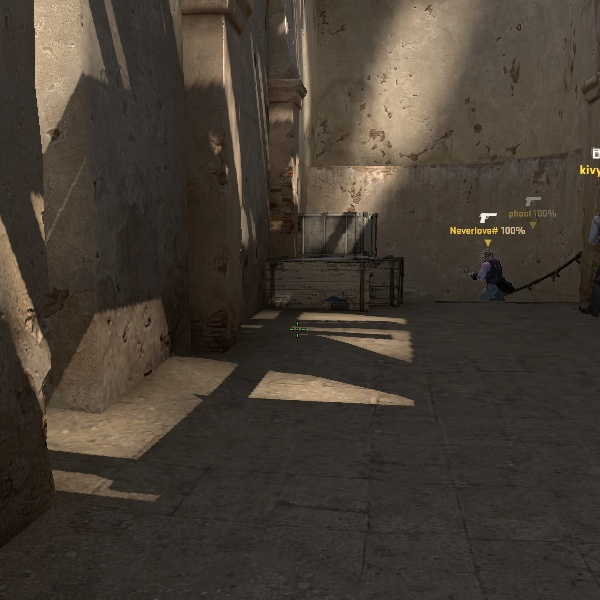t_body: (470, 248, 513, 297)
t_head: (480, 249, 494, 265)
